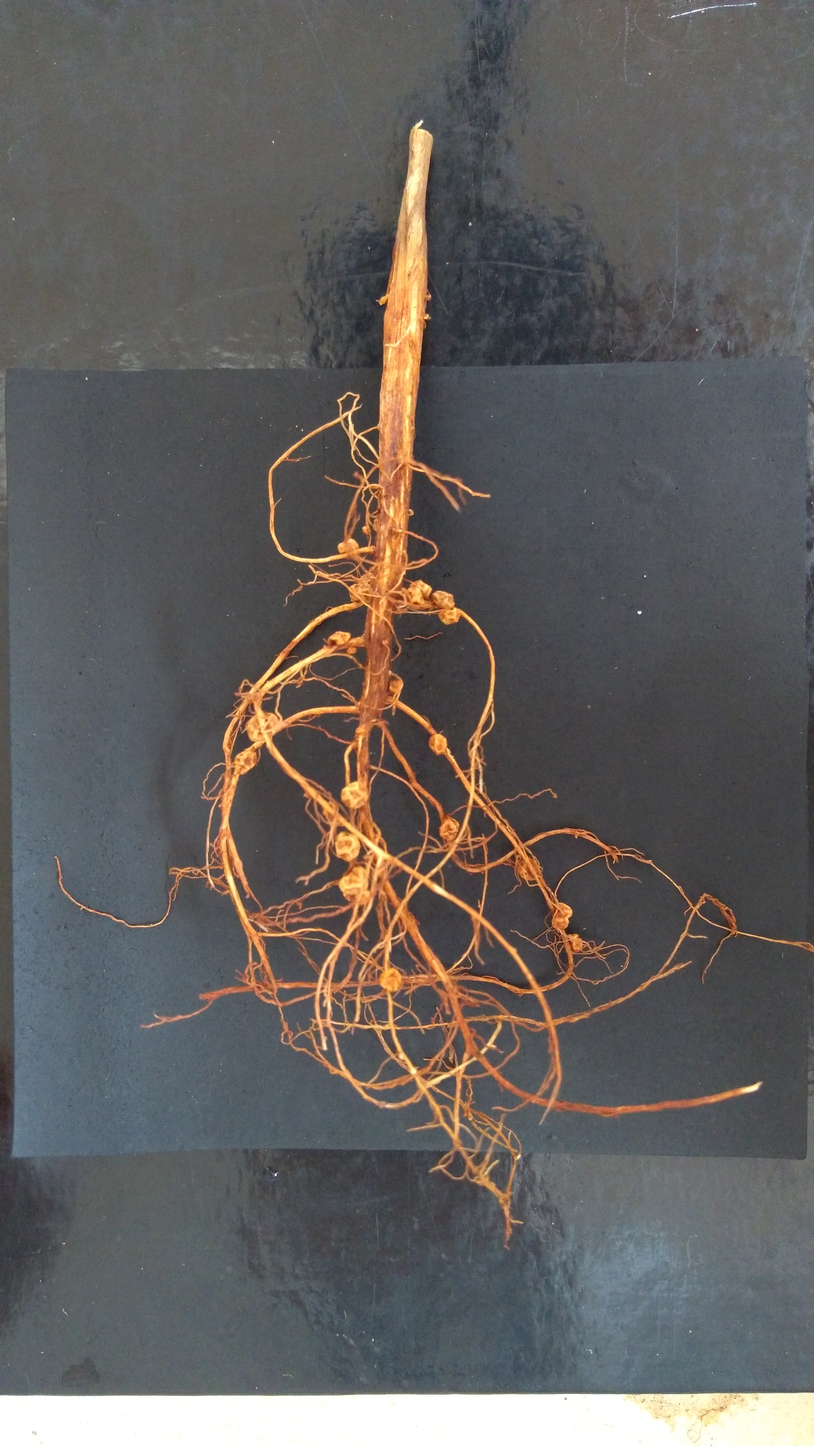nodule: (338, 865, 370, 906), (245, 711, 280, 742), (339, 781, 368, 810), (335, 831, 360, 861), (516, 856, 542, 880), (234, 749, 257, 776), (552, 902, 573, 930), (380, 966, 402, 992), (336, 538, 360, 561), (431, 589, 455, 611), (438, 816, 459, 841), (409, 580, 433, 601), (322, 799, 341, 825), (348, 583, 371, 604), (428, 733, 448, 755), (401, 587, 424, 606), (327, 631, 351, 648), (439, 607, 461, 625), (387, 677, 403, 698), (567, 933, 583, 954), (357, 572, 375, 587), (355, 727, 366, 740), (346, 645, 357, 656), (372, 518, 380, 532), (378, 296, 387, 306), (362, 525, 371, 535), (407, 509, 414, 518), (423, 313, 430, 320)
